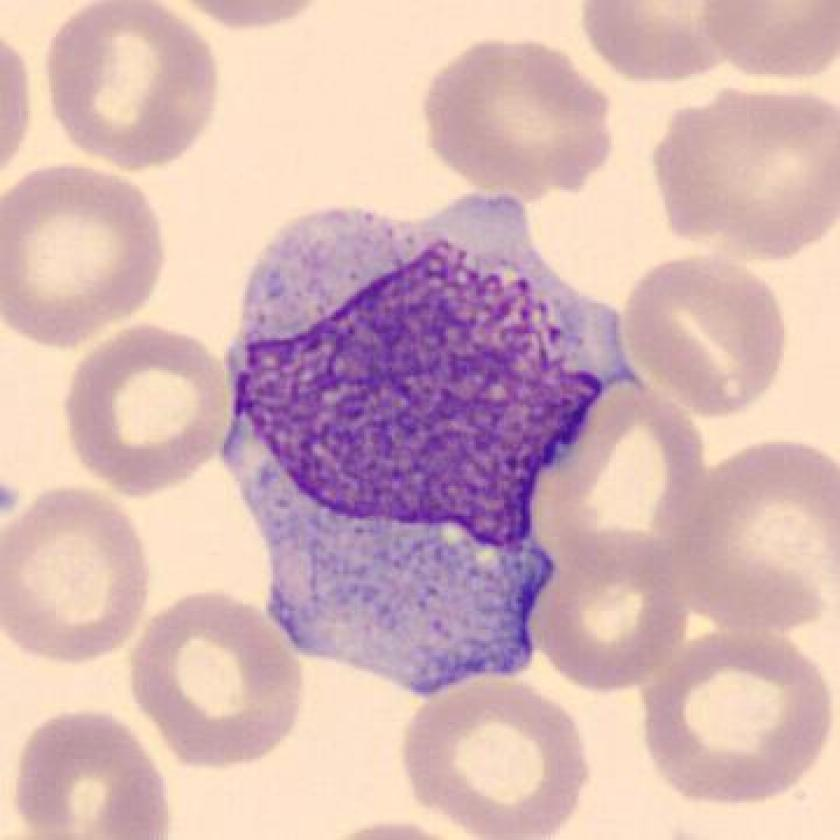monocyte: (202, 175, 636, 719)
